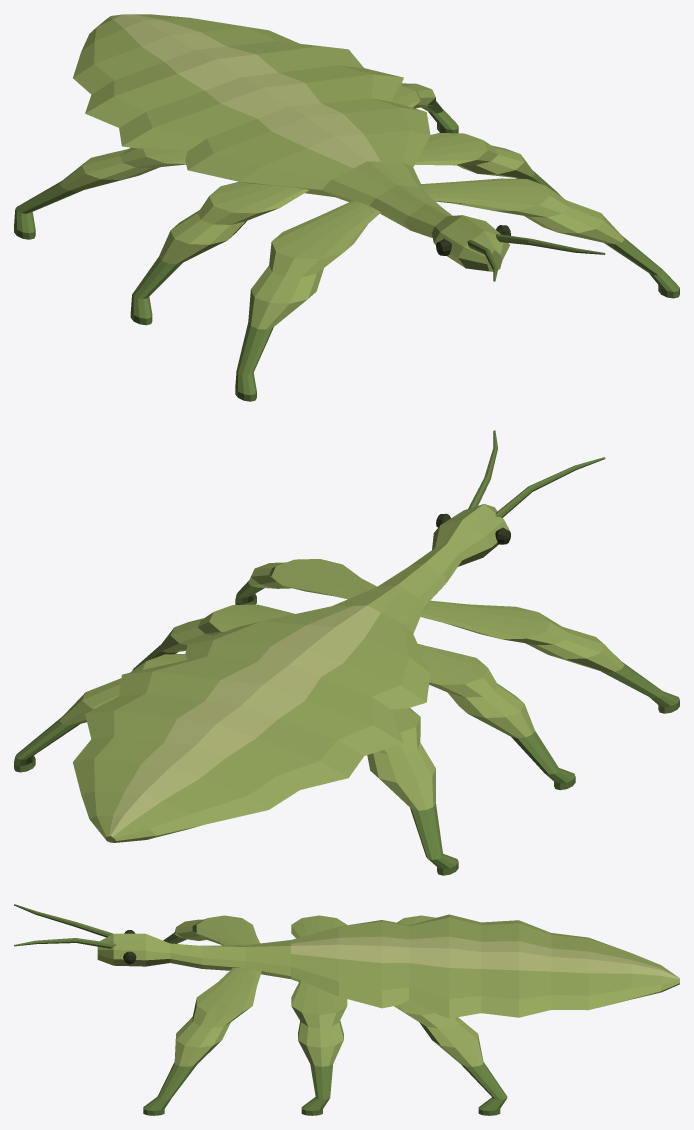
The picture shows the model from 3 angles, top to bottom: view 1: azimuth 30°, elevation 25°; view 2: azimuth 150°, elevation 25°; view 3: azimuth 270°, elevation 25°; orthographic projection. The views are drawn at different scales.
Visible parts, largest first — view 1: WholeSmallHeadNarrowThoraxAndBroadLobedLeafAbdomen, WholeLeafLobedWalkingLimbAndFineGroundToe0_0, WholeLeafLobedWalkingLimbAndFineGroundToe1_0, WholeLeafLobedWalkingLimbAndFineGroundToe0_1, WholeLeafLobedWalkingLimbAndFineGroundToe0_2, WholeLeafLobedWalkingLimbAndFineGroundToe1_1, WholeLeafLobedWalkingLimbAndFineGroundToe1_2, WholeFineForwardLeafInsectAntenna1; view 2: WholeSmallHeadNarrowThoraxAndBroadLobedLeafAbdomen, WholeLeafLobedWalkingLimbAndFineGroundToe0_0, WholeLeafLobedWalkingLimbAndFineGroundToe0_1, WholeLeafLobedWalkingLimbAndFineGroundToe0_2, WholeLeafLobedWalkingLimbAndFineGroundToe1_0, WholeLeafLobedWalkingLimbAndFineGroundToe1_2, WholeLeafLobedWalkingLimbAndFineGroundToe1_1, WholeFineForwardLeafInsectAntenna0; view 3: WholeSmallHeadNarrowThoraxAndBroadLobedLeafAbdomen, WholeLeafLobedWalkingLimbAndFineGroundToe1_0, WholeLeafLobedWalkingLimbAndFineGroundToe1_1, WholeLeafLobedWalkingLimbAndFineGroundToe1_2, WholeLeafLobedWalkingLimbAndFineGroundToe0_0, WholeLeafLobedWalkingLimbAndFineGroundToe0_1, WholeFineForwardLeafInsectAntenna0, WholeFineForwardLeafInsectAntenna1.
Boxes of the visible parts, x1,y1,x2,y2 form: WholeSmallHeadNarrowThoraxAndBroadLobedLeafAbdomen: (73, 14, 509, 271); WholeLeafLobedWalkingLimbAndFineGroundToe0_0: (235, 200, 380, 401); WholeLeafLobedWalkingLimbAndFineGroundToe1_0: (421, 178, 679, 298); WholeLeafLobedWalkingLimbAndFineGroundToe0_1: (130, 181, 309, 325); WholeLeafLobedWalkingLimbAndFineGroundToe0_2: (14, 147, 187, 239); WholeLeafLobedWalkingLimbAndFineGroundToe1_1: (415, 133, 561, 196); WholeLeafLobedWalkingLimbAndFineGroundToe1_2: (391, 83, 458, 133); WholeFineForwardLeafInsectAntenna1: (495, 233, 605, 254); WholeSmallHeadNarrowThoraxAndBroadLobedLeafAbdomen: (73, 504, 509, 842); WholeLeafLobedWalkingLimbAndFineGroundToe0_0: (420, 600, 679, 713); WholeLeafLobedWalkingLimbAndFineGroundToe0_1: (418, 644, 575, 790); WholeLeafLobedWalkingLimbAndFineGroundToe0_2: (367, 708, 458, 875); WholeLeafLobedWalkingLimbAndFineGroundToe1_0: (235, 559, 376, 604); WholeLeafLobedWalkingLimbAndFineGroundToe1_2: (14, 654, 187, 772); WholeLeafLobedWalkingLimbAndFineGroundToe1_1: (132, 604, 294, 670); WholeFineForwardLeafInsectAntenna0: (495, 457, 605, 517); WholeSmallHeadNarrowThoraxAndBroadLobedLeafAbdomen: (97, 914, 679, 1018); WholeLeafLobedWalkingLimbAndFineGroundToe1_0: (143, 968, 261, 1115); WholeLeafLobedWalkingLimbAndFineGroundToe1_1: (291, 980, 347, 1115); WholeLeafLobedWalkingLimbAndFineGroundToe1_2: (394, 1001, 507, 1115); WholeLeafLobedWalkingLimbAndFineGroundToe0_0: (163, 915, 259, 945); WholeLeafLobedWalkingLimbAndFineGroundToe0_1: (291, 915, 346, 938); WholeFineForwardLeafInsectAntenna0: (14, 904, 113, 937); WholeFineForwardLeafInsectAntenna1: (14, 938, 116, 948).
Bounding box in the file's own units: 1.43 × 0.453 × 2.48.
